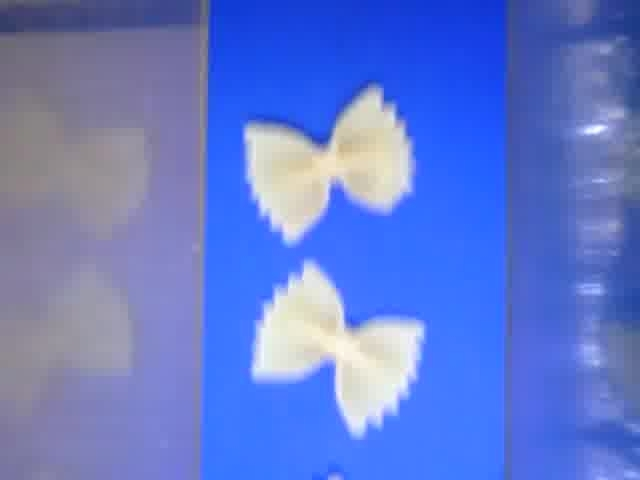farfalle: (250, 259, 427, 438), (244, 85, 419, 244)
